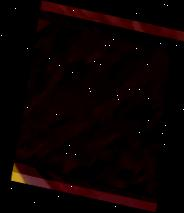scratch: (2, 8, 184, 204)
